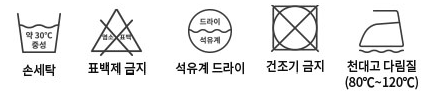KR_dry_clean_petroleum: (183, 4, 237, 56)
KR_hand_wash_30_neutral: (14, 9, 63, 58)
KR_no_chlorine_bleach: (89, 7, 147, 59)
KR_no_tumble_dry: (267, 3, 323, 54)
